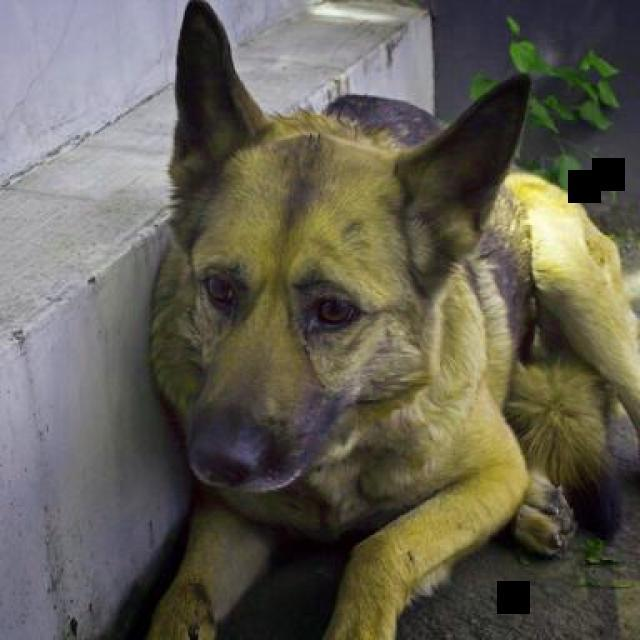adult_dog: (131, 2, 640, 640)
